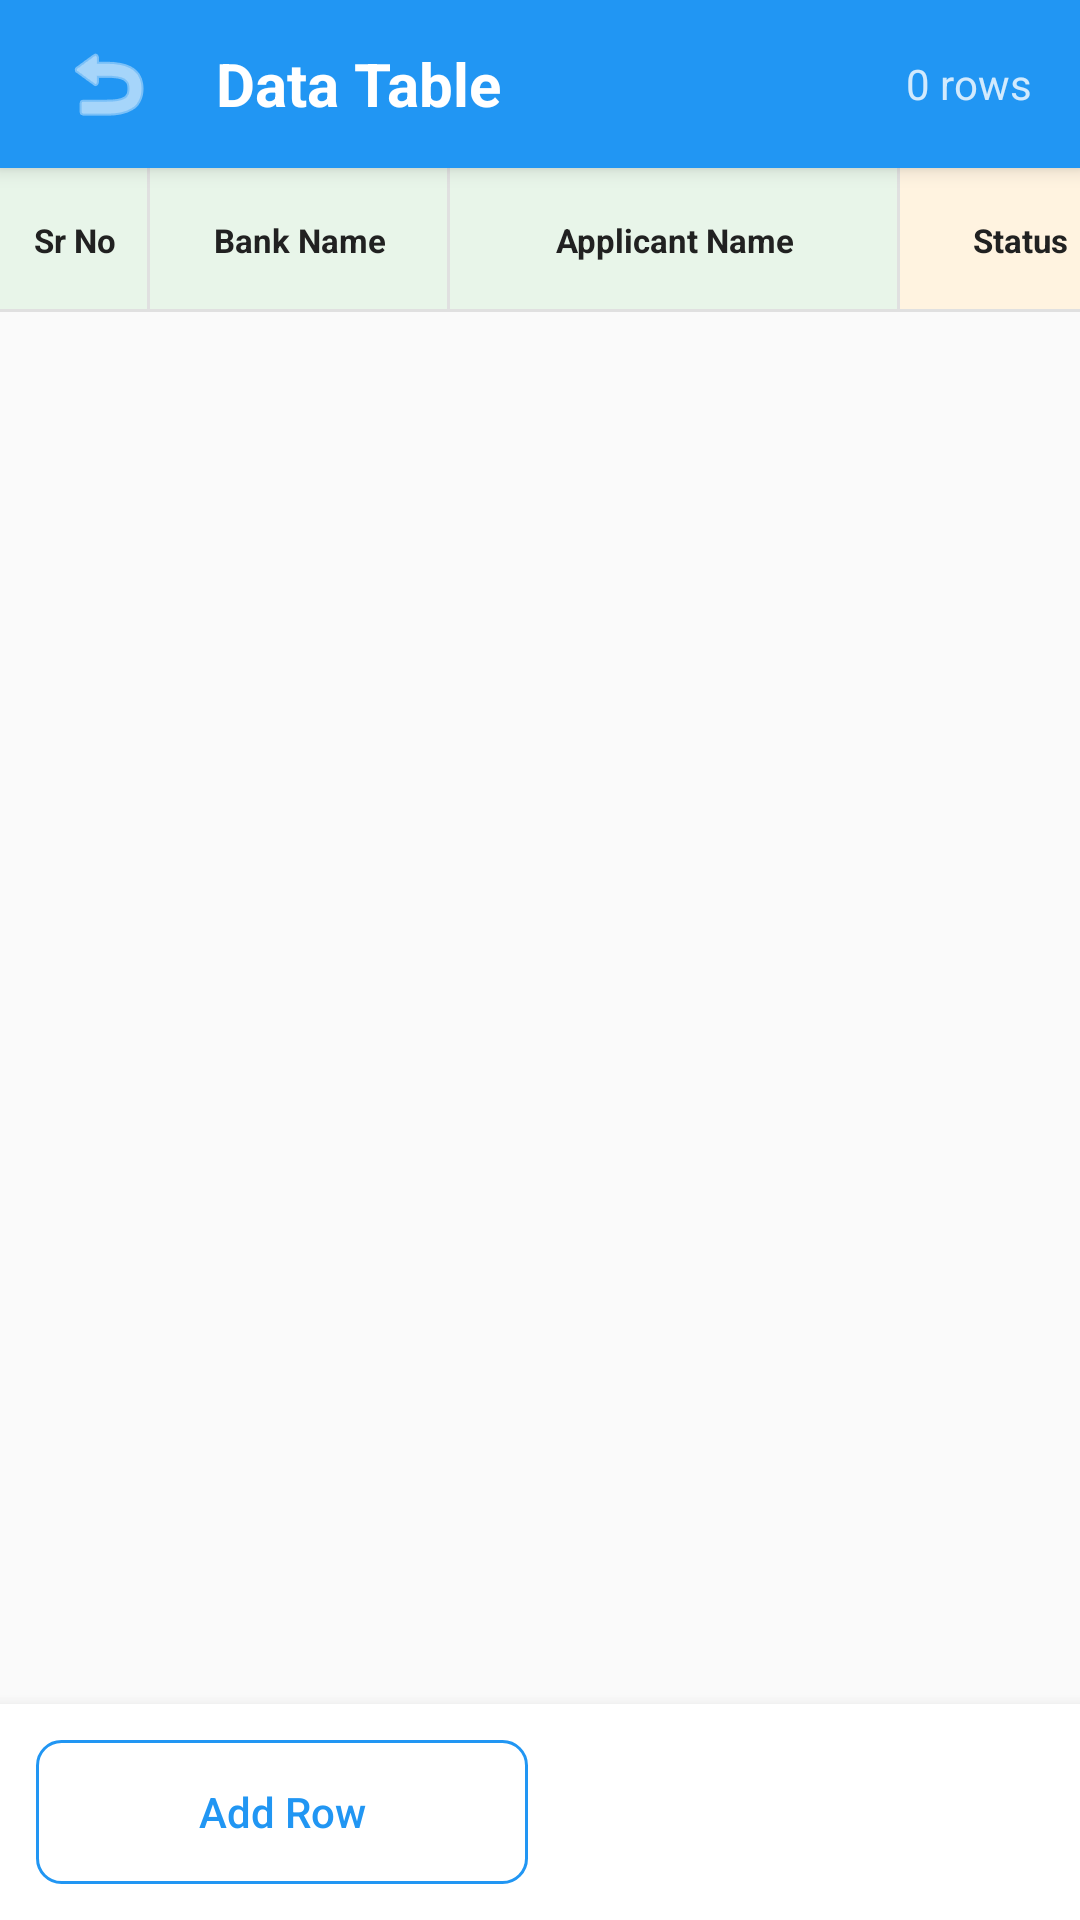

Point at icon controls on the screen. Image size 1080×1920, points as point (x, y).
Back: point (109, 84)
